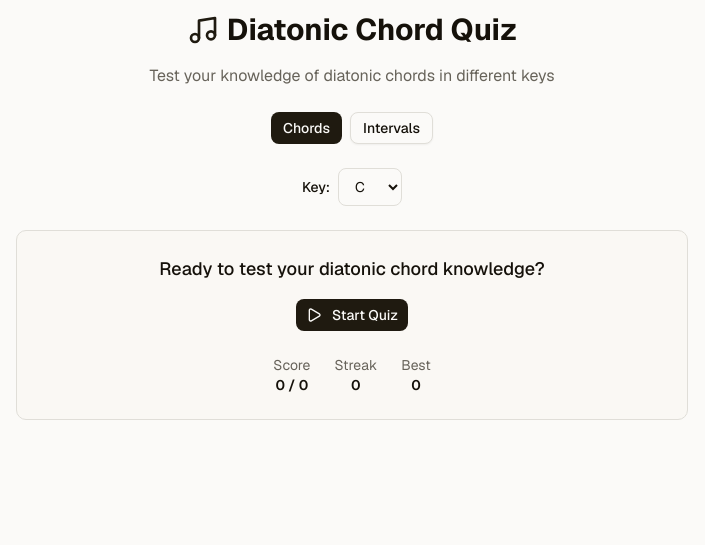
Test: DiatonicQuiz › shows 4 options when quiz starts
The image size is (705, 545).
Click the button with test id "start-btn" at (352, 315), box 296,299 -> 408,331
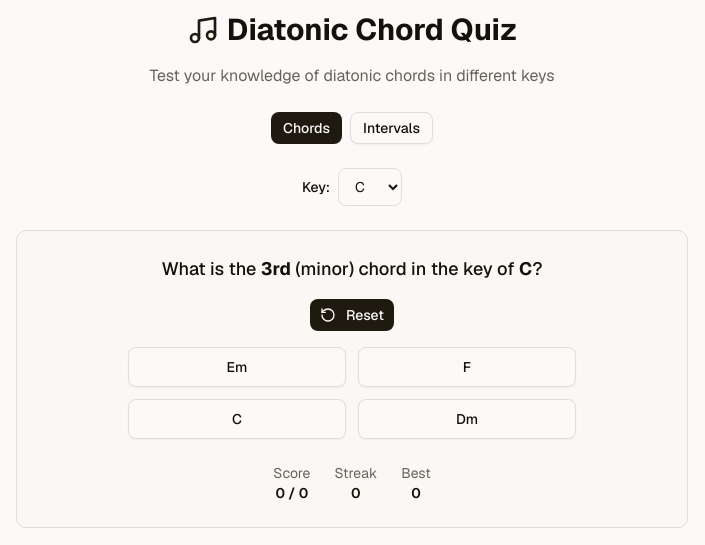
Now the button with test id "quiz-option-0" is shown, box 128,347 -> 346,387
Now the button with test id "quiz-option-1" is shown, box 358,347 -> 576,387
Now the button with test id "quiz-option-2" is shown, box 128,399 -> 346,439
